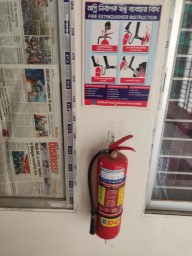fire_extinguisher: (101, 74, 181, 139)
